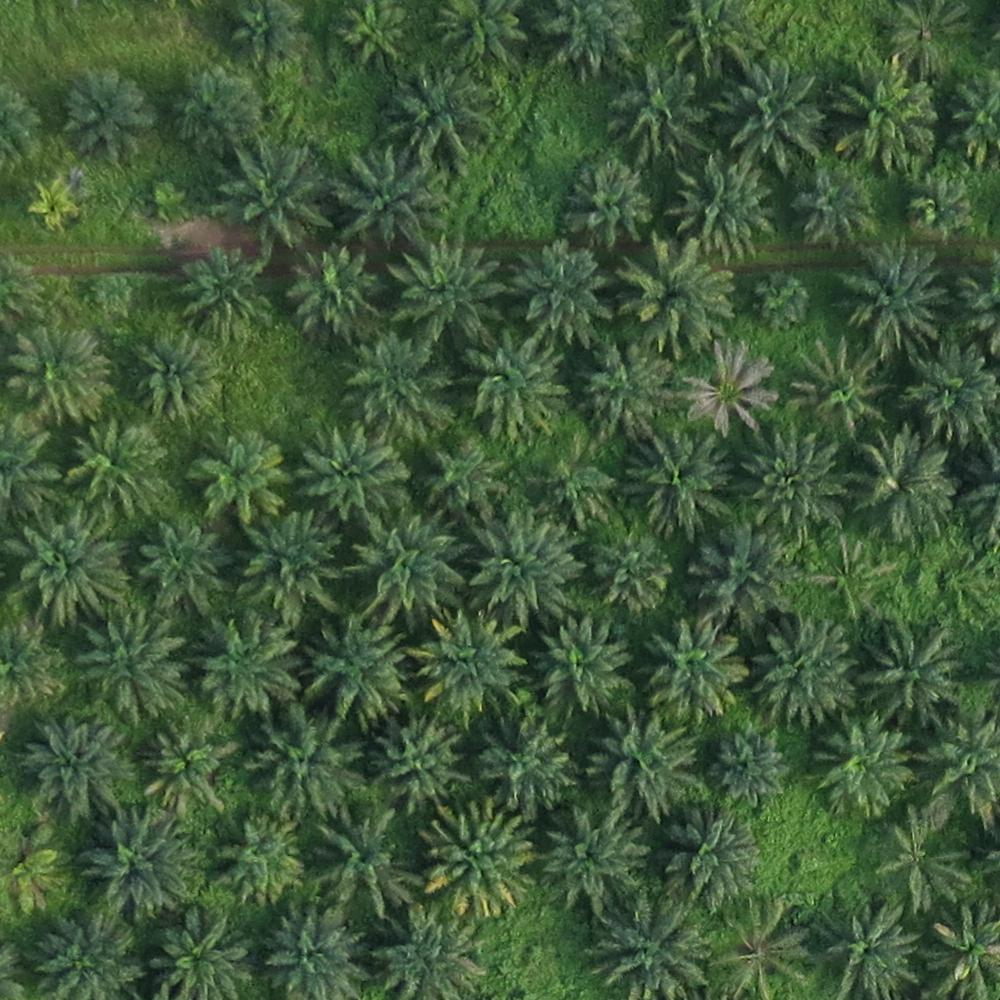Palm: (10, 509, 125, 624), (470, 508, 580, 622), (836, 235, 945, 350), (339, 334, 457, 438), (382, 65, 498, 169), (619, 239, 730, 346), (712, 60, 823, 167), (249, 711, 361, 817), (331, 143, 444, 248), (425, 805, 531, 916), (465, 330, 570, 440), (737, 431, 840, 542), (413, 613, 522, 716), (855, 431, 960, 536), (638, 617, 744, 721), (858, 617, 961, 724), (504, 239, 611, 341), (669, 155, 775, 257), (296, 424, 406, 522), (218, 147, 328, 245), (302, 616, 406, 719), (624, 432, 731, 532), (395, 240, 500, 341), (751, 612, 852, 717), (601, 899, 710, 996), (833, 62, 934, 166), (194, 614, 299, 714), (354, 516, 458, 616), (544, 806, 648, 906), (603, 62, 708, 160), (779, 336, 885, 433), (19, 716, 121, 816), (236, 514, 338, 614), (124, 326, 227, 425), (585, 711, 690, 805), (814, 718, 910, 819), (87, 812, 187, 908), (375, 910, 485, 997), (86, 614, 184, 711), (655, 801, 752, 898), (134, 521, 230, 619), (7, 328, 106, 422), (479, 716, 577, 810), (532, 618, 630, 712), (148, 911, 250, 1000), (184, 431, 288, 518), (266, 910, 368, 998), (137, 716, 230, 811), (818, 902, 914, 994), (713, 901, 810, 992), (74, 418, 166, 513), (173, 251, 267, 342), (58, 71, 153, 161), (575, 339, 667, 431), (689, 526, 782, 617), (368, 714, 458, 808), (905, 343, 995, 435), (213, 813, 302, 905), (37, 917, 135, 997), (287, 249, 378, 333), (166, 64, 261, 144), (560, 156, 649, 239), (590, 538, 674, 615), (422, 439, 503, 517), (797, 162, 877, 240), (707, 726, 787, 801)
